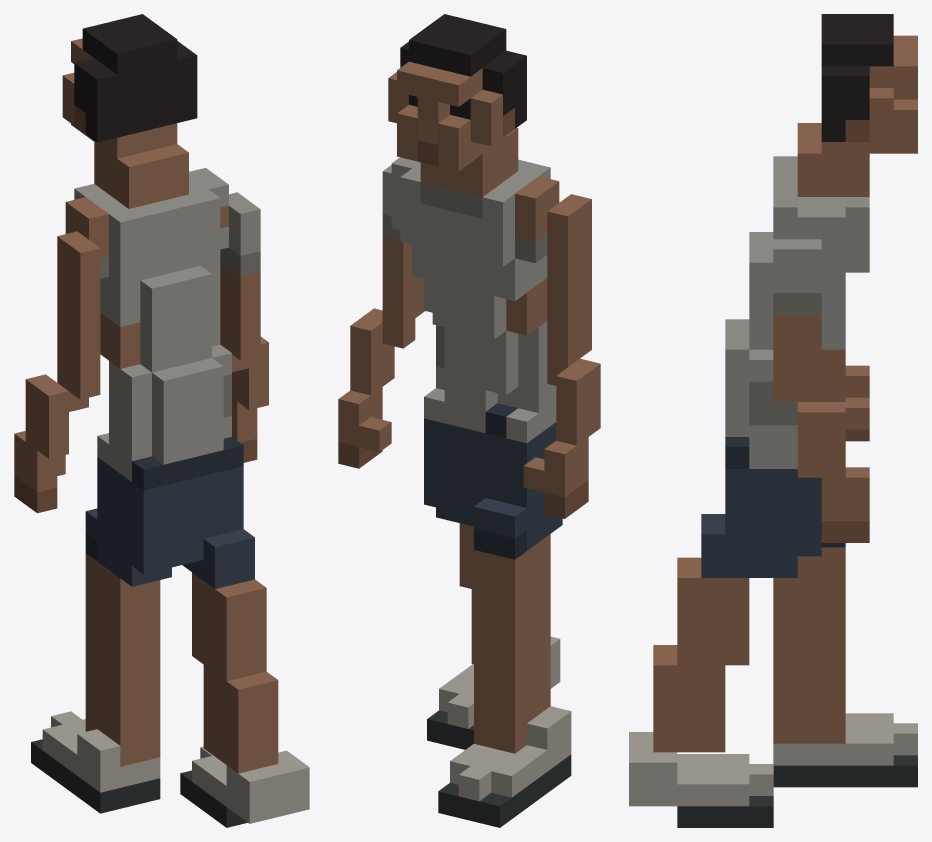
File: Claude_runner.glb
3 renders of one model, left to right at view 1: azimuth 30°, elevation 25°; view 2: azimuth 150°, elevation 25°; view 3: azimuth 270°, elevation 25°, orthographic. The views are drawn at different scales.
Visible parts, largest first — view 1: Claude_runner; view 2: Claude_runner; view 3: Claude_runner.
Part boxes in pixels (x1,y1,x2,y2): Claude_runner: [14, 14, 309, 827]; Claude_runner: [338, 14, 600, 827]; Claude_runner: [629, 14, 917, 827].
Size of the model in its own units: 0.55 by 1.75 by 0.6.
